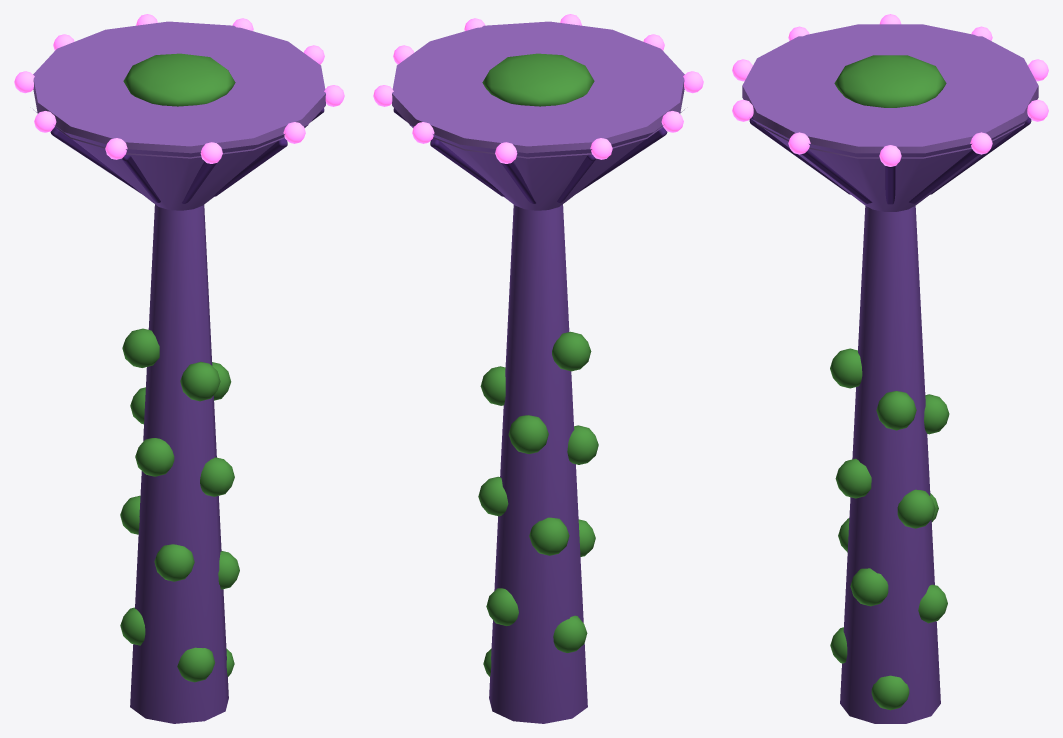
File: supertree.glb
3 views of the same model, side by side, from view 1: azimuth 30°, elevation 25°; view 2: azimuth 150°, elevation 25°; view 3: azimuth 270°, elevation 25° (orthographic).
Parts seen in each view (by area): view 1: supertree (×2); view 2: supertree (×2); view 3: supertree (×2).
Part boxes in pixels (x1=…): supertree (×2): x1=14, y1=14, x2=344, y2=723; supertree (×2): x1=373, y1=14, x2=703, y2=723; supertree (×2): x1=732, y1=14, x2=1048, y2=723.
Bounding box in the file's own units: 2.96 × 6.28 × 2.82.
